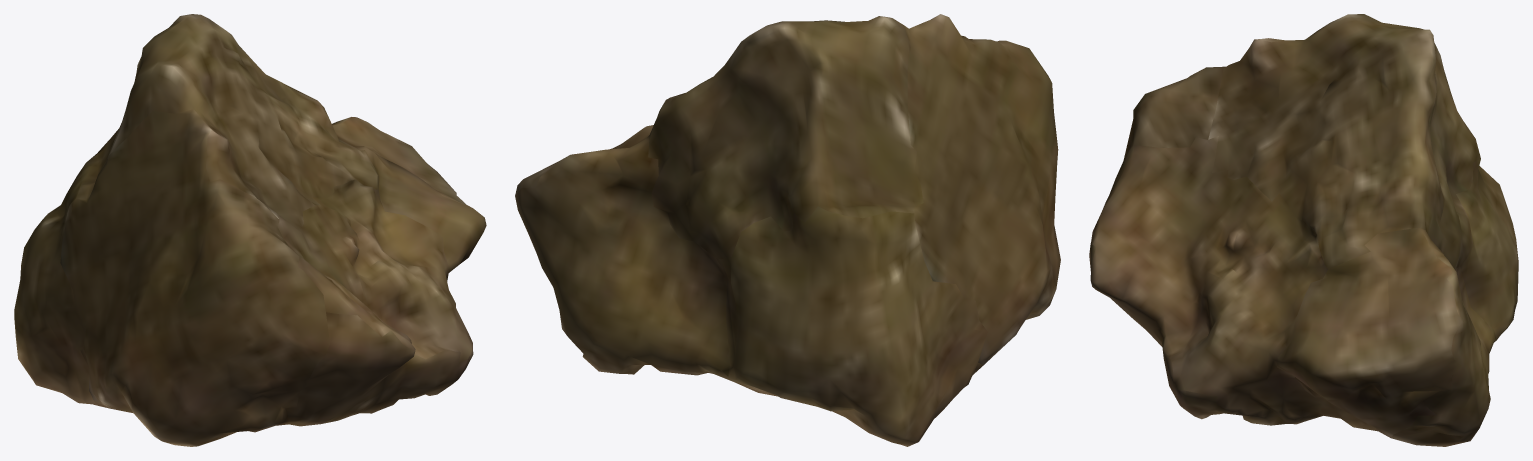
3 views of the same model, side by side, from view 1: azimuth 30°, elevation 25°; view 2: azimuth 150°, elevation 25°; view 3: azimuth 270°, elevation 25° (orthographic). The views are drawn at different scales.
Parts seen in each view (by area): view 1: rock_moss_set_01__d_lod1; view 2: rock_moss_set_01__d_lod1; view 3: rock_moss_set_01__d_lod1.
Part boxes in pixels (<box>): rock_moss_set_01__d_lod1: <box>14,14,486,446</box>; rock_moss_set_01__d_lod1: <box>515,14,1060,446</box>; rock_moss_set_01__d_lod1: <box>1089,14,1518,446</box>.
Bounding box in the file's own units: 2.12 × 1.76 × 1.96.
Materials: 1 (1 with a texture image).
